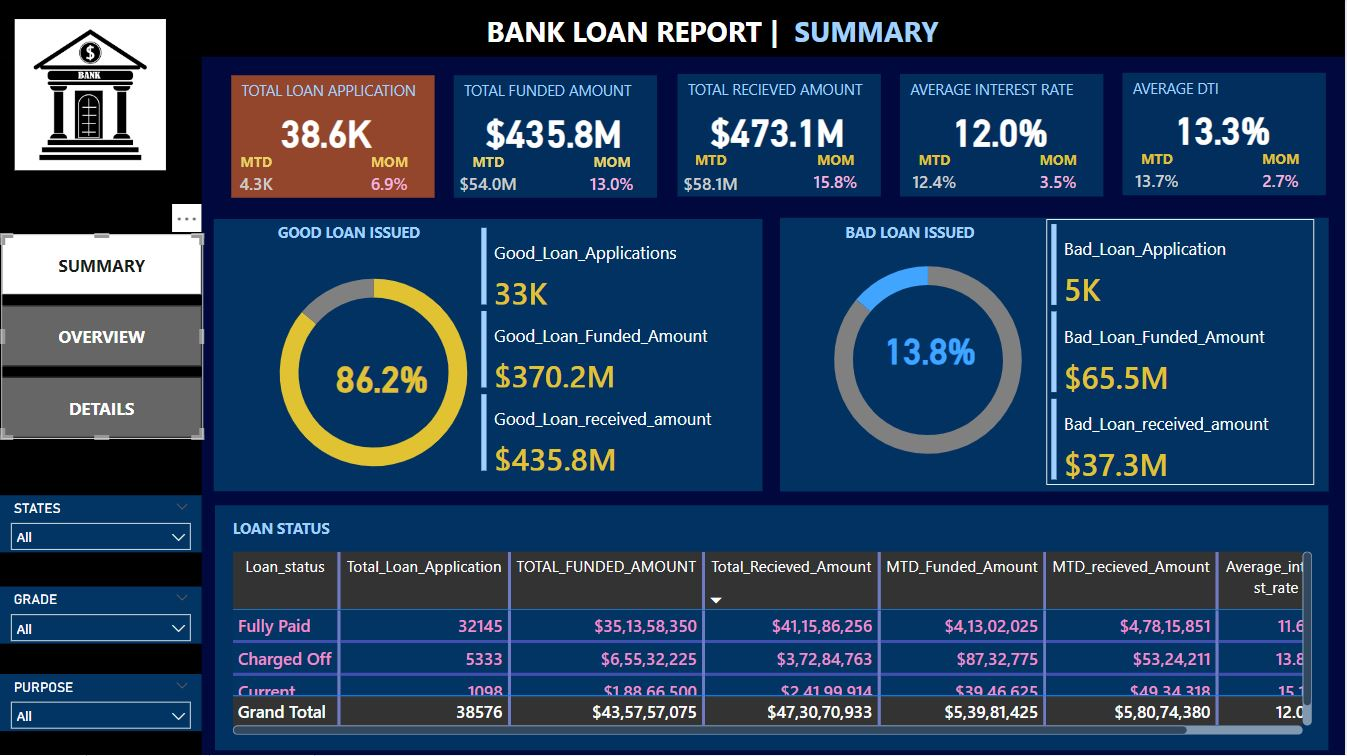

This screenshot's page, from the dashboard's own definition file:
{"tool":"powerbi","page":{"name":"SUMMARY","canvas":[1280,720],"ordinal":0},"visuals":[{"type":"shape","box":[0,0,1280.3,54.9],"z":0},{"type":"donutChart","fields":{"Category":["Bank_loan_data.Good vs Bad Loan"],"Y":["Bank_loan_data.Total_Loan_Application"]},"box":[755.2,227.2,255.9,233.3],"z":0,"group":"g2"},{"type":"shape","box":[1068.8,70.2,194,116.6],"z":500,"group":"g6"},{"type":"shape","box":[644.6,71.4,194,116.6],"z":500,"group":"g4"},{"type":"shape","box":[856.7,71.4,194,116.6],"z":500,"group":"g5"},{"type":"shape","box":[220.2,72.6,194,116.6],"z":500,"group":"g1"},{"type":"shape","box":[432.4,72.6,194,116.6],"z":500,"group":"g3"},{"type":"shape","box":[0,54.9,192.1,665.5],"z":1000},{"type":"card","fields":{"Values":["Bank_loan_data.Average_DTI"]},"box":[1087.7,100.4,152.3,46.4],"z":1000,"group":"g6"},{"type":"card","fields":{"Values":["Bank_loan_data.Total_Recieved_Amount"]},"box":[663.4,101.6,152.3,46.4],"z":1000,"group":"g4"},{"type":"card","fields":{"Values":["Bank_loan_data.Average_interest_rate"]},"box":[875.6,101.6,152.3,46.4],"z":1000,"group":"g5"},{"type":"card","fields":{"Values":["Bank_loan_data.Total_Loan_Application"]},"box":[261.1,102.8,100,46.4],"z":1000,"group":"g1"},{"type":"card","fields":{"Values":["Bank_loan_data.TOTAL_FUNDED_AMOUNT"]},"box":[451.3,102.8,152.3,46.4],"z":1000,"group":"g3"},{"type":"textbox","box":[799.3,207.1,160.7,32.1],"z":1000,"group":"g2"},{"type":"cardVisual","fields":{"Data":["Bank_loan_data.Bad_Loan_Application","Bank_loan_data.Bad_Loan_Funded_Amount","Bank_loan_data.Bad_Loan_received_amount"]},"box":[995.1,209.4,255.6,253.5],"z":2000,"group":"g2"},{"type":"shape","box":[204.7,482,1060.4,233.3],"z":2000},{"type":"textbox","box":[1073.6,70.2,185.7,30.9],"z":3000,"group":"g6"},{"type":"textbox","box":[649.4,71.4,185.7,30.9],"z":3000,"group":"g4"},{"type":"textbox","box":[861.5,71.4,185.7,30.9],"z":3000,"group":"g5"},{"type":"textbox","box":[224.9,72.6,185.7,30.9],"z":3000,"group":"g1"},{"type":"textbox","box":[437.2,72.6,185.7,30.9],"z":3000,"group":"g3"},{"type":"textbox","box":[216.6,489.1,160.7,32.1],"z":3000},{"type":"shape","box":[742.6,208.3,522.4,260.6],"z":4000},{"type":"textbox","box":[259.4,207.1,157.1,32.1],"z":5000,"group":"g7"},{"type":"card","fields":{"Values":["Bank_loan_data.Bad_Loan_Percentage"]},"box":[827.1,309.4,116.6,46.4],"z":5000},{"type":"card","title":"MTD","fields":{"Values":["Bank_loan_data.MTD_Average_DTI"]},"box":[1065.1,143.3,72.6,44],"z":6000,"group":"g6"},{"type":"card","title":"MTD","fields":{"Values":["Bank_loan_data.MTD_recieved_Amount"]},"box":[645.1,143.5,63.1,41.7],"z":6000,"group":"g4"},{"type":"card","title":"MTD","fields":{"Values":["Bank_loan_data.MTD_Average_Interest_Rate"]},"box":[853,144.5,72.6,44],"z":6000,"group":"g5"},{"type":"card","title":"MTD","fields":{"Values":["Bank_loan_data.MTD_Loan_Application"]},"box":[216.6,145.2,54.7,44],"z":6000,"group":"g1"},{"type":"card","title":"MTD","fields":{"Values":["Bank_loan_data.MTD_Funded_Amount"]},"box":[428.7,145.7,72.6,44],"z":6000,"group":"g3"},{"type":"shape","box":[203.5,209.5,522.4,259.4],"z":6000},{"type":"donutChart","fields":{"Category":["Bank_loan_data.Good vs Bad Loan"],"Y":["Bank_loan_data.Total_Loan_Application"]},"box":[228.1,239.1,254.7,233.3],"z":6000,"group":"g7"},{"type":"card","title":"MOM","fields":{"Values":["Bank_loan_data.MOM_Average_DTI"]},"box":[1187.9,142.8,63.1,44],"z":7000,"group":"g6"},{"type":"card","title":"MOM","fields":{"Values":["Bank_loan_data.MOM_recieved_amount"]},"box":[763.6,144,63.1,44],"z":7000,"group":"g4"},{"type":"card","title":"MOM","fields":{"Values":["Bank_loan_data.MOM_Average_interest_rate"]},"box":[975.8,144,63.1,44],"z":7000,"group":"g5"},{"type":"card","title":"MOM","fields":{"Values":["Bank_loan_data.MOM_LOAN_APPLICATION"]},"box":[339.2,145.2,63.1,44],"z":7000,"group":"g1"},{"type":"card","title":"MOM","fields":{"Values":["Bank_loan_data.MOM_Funded_Amount"]},"box":[551.5,145.2,63.1,44],"z":7000,"group":"g3"},{"type":"card","fields":{"Values":["Bank_loan_data.Good_Loan_Percentage"]},"box":[310.6,336.8,105.9,46.4],"z":7000},{"type":"textbox","box":[458.3,6.9,448.7,48],"z":8000},{"type":"group","id":"g1","title":"Group 2","box":[216.6,72.6,197.6,116.6],"z":9000},{"type":"group","id":"g2","title":"Group 1","box":[755.2,207.1,495.6,255.8],"z":10000},{"type":"group","id":"g3","title":"Group 2","box":[428.7,72.6,197.6,116.6],"z":11000},{"type":"group","id":"g4","title":"Group 2","box":[644.6,71.4,194,116.6],"z":12000},{"type":"cardVisual","fields":{"Data":["Bank_loan_data.Good_Loan_Applications","Bank_loan_data.Good_Loan_Funded_Amount","Bank_loan_data.Good_Loan_received_amount"]},"box":[453.4,213.1,249.9,242.8],"z":12001,"group":"g7"},{"type":"group","id":"g5","title":"Group 2","box":[853,71.4,197.6,117.8],"z":13000},{"type":"group","id":"g6","title":"Group 2","box":[1065.1,70.2,197.6,117.8],"z":14000},{"type":"group","id":"g7","title":"Group 1","box":[228.1,207.1,475.2,265.3],"z":15000},{"type":"tableEx","fields":{"Values":["Bank_loan_data.loan_status","Bank_loan_data.Total_Loan_Application","Bank_loan_data.TOTAL_FUNDED_AMOUNT","Bank_loan_data.Total_Recieved_Amount","Bank_loan_data.MTD_Funded_Amount","Bank_loan_data.MTD_recieved_Amount","Bank_loan_data.Average_interest_rate","Bank_loan_data.Average_DTI"]},"box":[215.4,521.3,1038.9,184.5],"z":16000},{"type":"slicer","fields":{"Values":["Bank_loan_data.address_state"]},"box":[0,417.7,191.6,54.7],"z":17000},{"type":"slicer","fields":{"Values":["Bank_loan_data.grade"]},"box":[1.2,505.8,191.6,54.7],"z":18000},{"type":"slicer","fields":{"Values":["Bank_loan_data.purpose"]},"box":[0,586.7,191.6,54.7],"z":19000},{"type":"image","box":[1.2,14.3,169,153.5],"z":19001},{"type":"pageNavigator","box":[0,188,191.6,195.2],"z":19002}]}

Visuals, with their boxes on the page's 1280x720 design canvas (x1, y1, x2, y2). These are canvas units, not pixel positions in the 1347x756 screenshot, which may show the page scaled, cropped or inside an application window:
shape: locate(0, 0, 1280, 55)
donutChart - Bank_loan_data.Good vs Bad Loan x Bank_loan_data.Total_Loan_Application: locate(755, 227, 1011, 460)
shape: locate(1069, 70, 1263, 187)
shape: locate(645, 71, 839, 188)
shape: locate(857, 71, 1051, 188)
shape: locate(220, 73, 414, 189)
shape: locate(432, 73, 626, 189)
shape: locate(0, 55, 192, 720)
card - Bank_loan_data.Average_DTI: locate(1088, 100, 1240, 147)
card - Bank_loan_data.Total_Recieved_Amount: locate(663, 102, 816, 148)
card - Bank_loan_data.Average_interest_rate: locate(876, 102, 1028, 148)
card - Bank_loan_data.Total_Loan_Application: locate(261, 103, 361, 149)
card - Bank_loan_data.TOTAL_FUNDED_AMOUNT: locate(451, 103, 604, 149)
textbox: locate(799, 207, 960, 239)
cardVisual - Bank_loan_data.Bad_Loan_Application x Bank_loan_data.Bad_Loan_Funded_Amount: locate(995, 209, 1251, 463)
shape: locate(205, 482, 1265, 715)
textbox: locate(1074, 70, 1259, 101)
textbox: locate(649, 71, 835, 102)
textbox: locate(862, 71, 1047, 102)
textbox: locate(225, 73, 411, 104)
textbox: locate(437, 73, 623, 104)
textbox: locate(217, 489, 377, 521)
shape: locate(743, 208, 1265, 469)
textbox: locate(259, 207, 416, 239)
card - Bank_loan_data.Bad_Loan_Percentage: locate(827, 309, 944, 356)
"MTD" card: locate(1065, 143, 1138, 187)
"MTD" card: locate(645, 144, 708, 185)
"MTD" card: locate(853, 144, 926, 188)
"MTD" card: locate(217, 145, 271, 189)
"MTD" card: locate(429, 146, 501, 190)
shape: locate(204, 210, 726, 469)
donutChart - Bank_loan_data.Good vs Bad Loan x Bank_loan_data.Total_Loan_Application: locate(228, 239, 483, 472)
"MOM" card: locate(1188, 143, 1251, 187)
"MOM" card: locate(764, 144, 827, 188)
"MOM" card: locate(976, 144, 1039, 188)
"MOM" card: locate(339, 145, 402, 189)
"MOM" card: locate(552, 145, 615, 189)
card - Bank_loan_data.Good_Loan_Percentage: locate(311, 337, 416, 383)
textbox: locate(458, 7, 907, 55)
"Group 2" group: locate(217, 73, 414, 189)
"Group 1" group: locate(755, 207, 1251, 463)
"Group 2" group: locate(429, 73, 626, 189)
"Group 2" group: locate(645, 71, 839, 188)
cardVisual - Bank_loan_data.Good_Loan_Applications x Bank_loan_data.Good_Loan_Funded_Amount: locate(453, 213, 703, 456)
"Group 2" group: locate(853, 71, 1051, 189)
"Group 2" group: locate(1065, 70, 1263, 188)
"Group 1" group: locate(228, 207, 703, 472)
tableEx - Bank_loan_data.loan_status x Bank_loan_data.Total_Loan_Application: locate(215, 521, 1254, 706)
slicer - Bank_loan_data.address_state: locate(0, 418, 192, 472)
slicer - Bank_loan_data.grade: locate(1, 506, 193, 560)
slicer - Bank_loan_data.purpose: locate(0, 587, 192, 641)
image: locate(1, 14, 170, 168)
pageNavigator: locate(0, 188, 192, 383)
